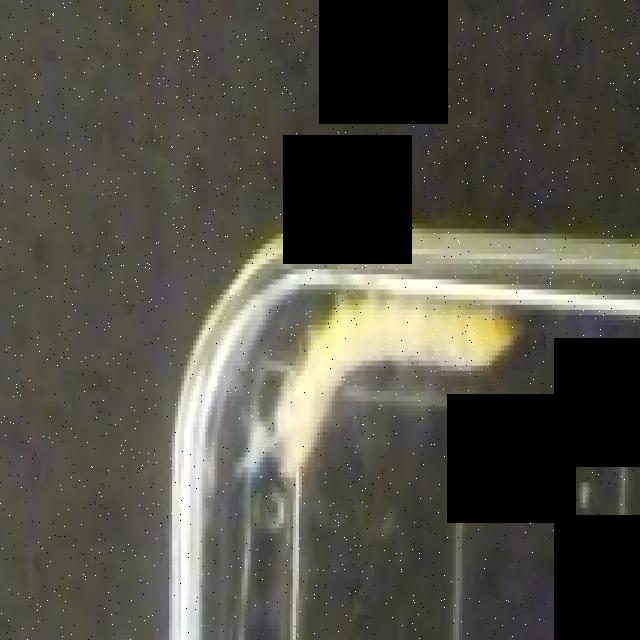larva: (278, 305, 527, 475)
